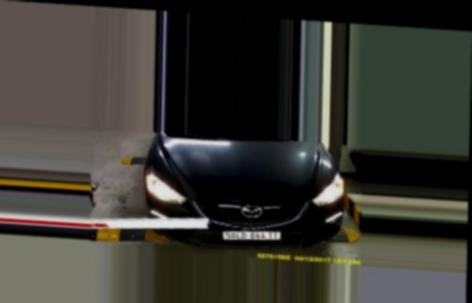License_Plate: (221, 226, 281, 243)
